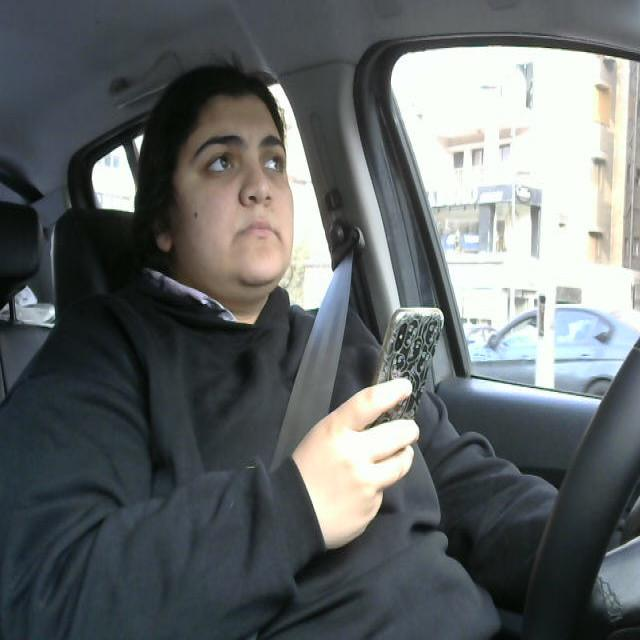mobile use: (359, 294, 450, 474)
